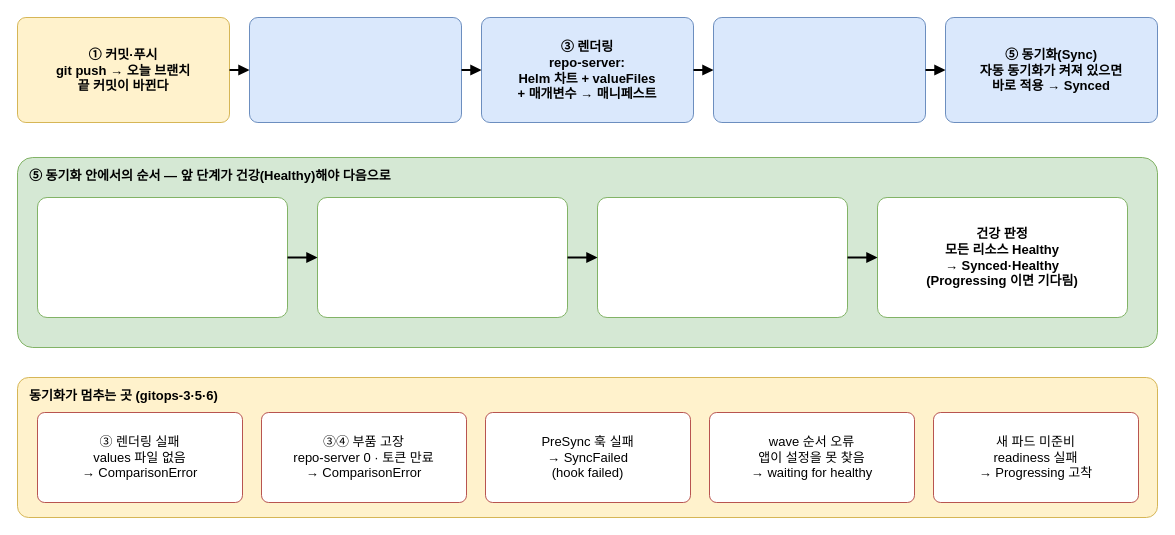
This 1175x535 diagram has some shape labels left out. The shapes that lost their labels are listed below. From the top down, each one's centre as x and y in pixels, then its label:
(355,69): ② 감지 1분마다(또는 Refresh) Git 을 다시 본다
(819,69): ④ 비교(diff) controller: Git ↔ 클러스터 다르면 OutOfSync
(162,257): PreSync 훅 배포 전 점검 Job (DB 접속 확인) 실패 → 동기화 중단
(442,257): wave -1 앱 설정 ConfigMap (앱이 읽을 것을 먼저)
(722,257): wave 0 Deployment·Service·HPA 새 파드가 Ready 될 때까지 기다림
